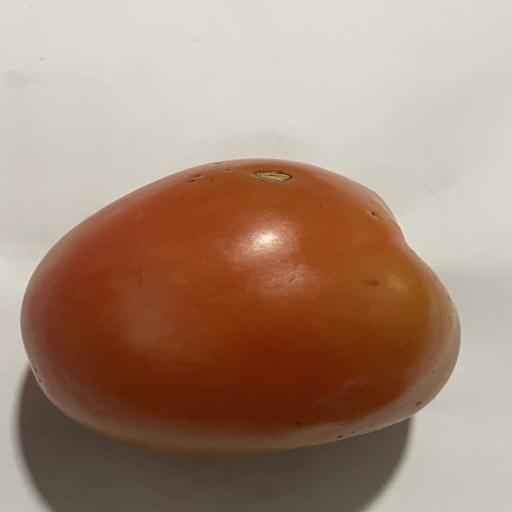ripe: (21, 159, 460, 454)
